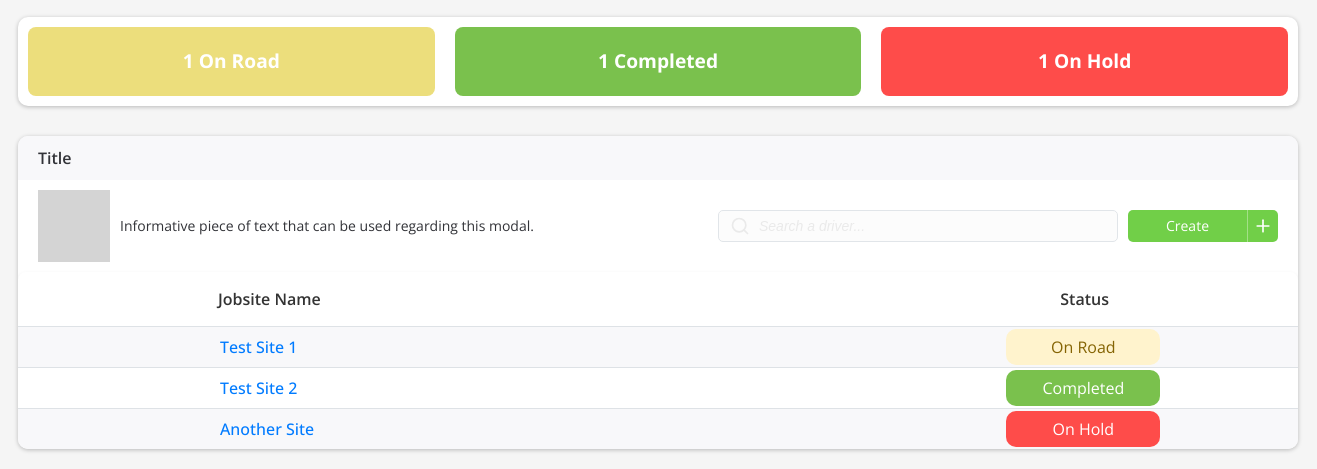
JobSitesPage Component › renders empty state when no job sites match search
Type "nonexistent" into the field with placeholder "Search a driver...".
click(918, 226); type("nonexistent")  # box [718, 210, 1118, 242]
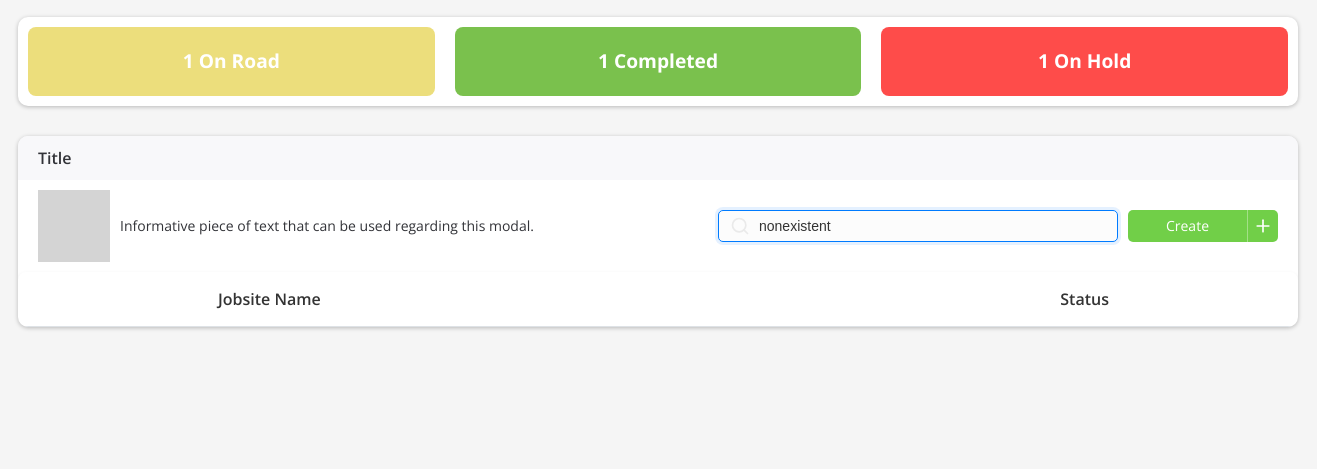
expect the link "Test Site 1" is gone: met
expect the link "Test Site 2" is gone: met
expect the link "Another Site" is gone: met
